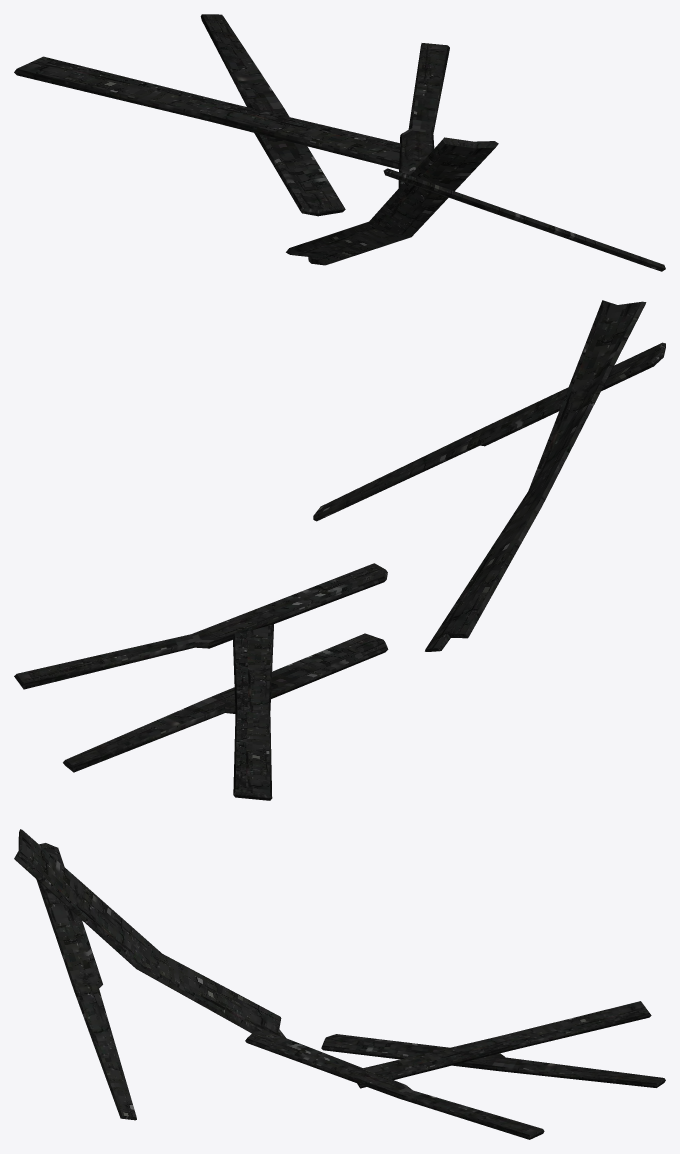
Rendered from 1_BURNT_01_10-transformed.glb.
3 renders of one model, top to bottom at view 1: azimuth 30°, elevation 25°; view 2: azimuth 150°, elevation 25°; view 3: azimuth 270°, elevation 25°, orthographic. The views are drawn at different scales.
Parts seen in each view (by area): view 1: default; view 2: default; view 3: default.
Part boxes in pixels (x1,y1,x2,y2): default: (14, 14, 665, 271); default: (14, 300, 665, 800); default: (14, 829, 665, 1139).
Size of the model in its own units: 2.53 by 1.69 by 4.97.
Materials: 1 (1 with a texture image).
